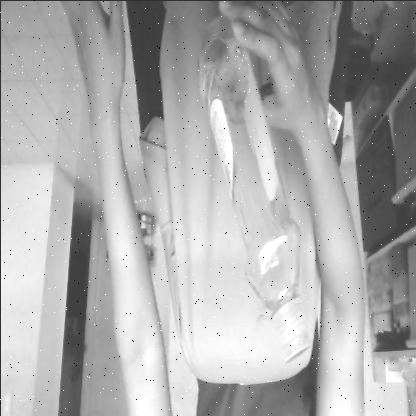Plastic Bottle: (194, 7, 316, 370)
